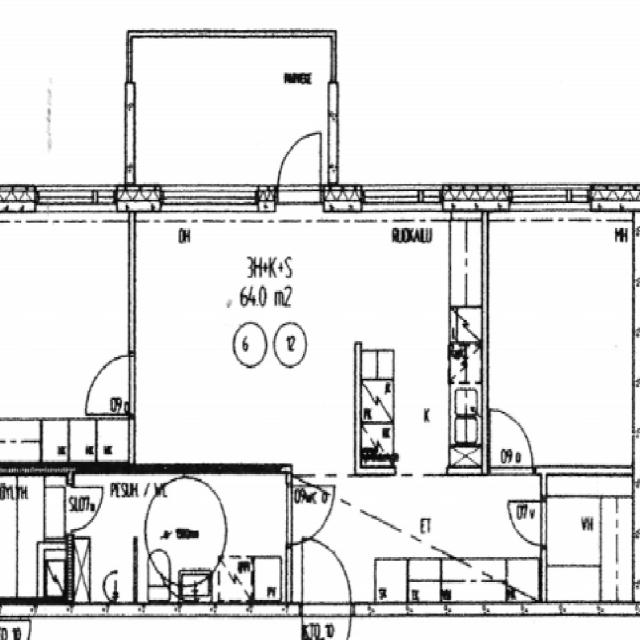door: (276, 124, 322, 212), (303, 540, 352, 618), (286, 487, 337, 546), (85, 357, 135, 415), (491, 412, 533, 474), (66, 488, 108, 534), (302, 604, 351, 640), (508, 502, 546, 546)
